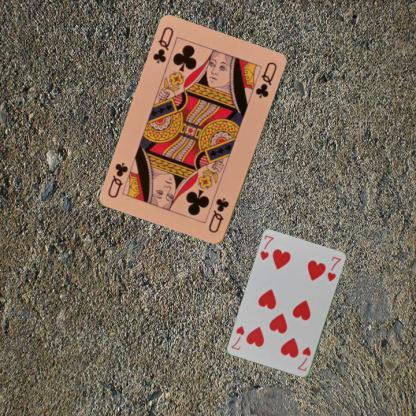7h: (295, 344, 312, 373), (258, 233, 275, 262)
Qc: (150, 25, 175, 66), (206, 195, 230, 235)
